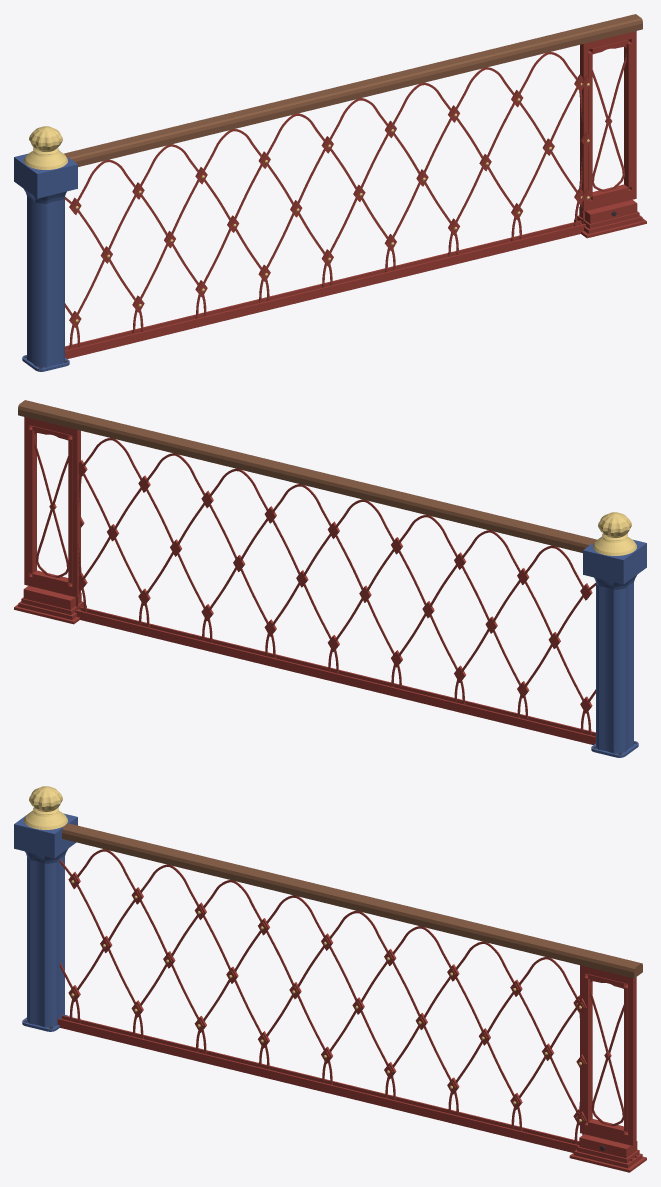
3 views of the same model, one above another, from view 1: azimuth 30°, elevation 25°; view 2: azimuth 150°, elevation 25°; view 3: azimuth 330°, elevation 25° (orthographic).
Parts seen in each view (by area): view 1: Lattice; view 2: Lattice; view 3: Lattice.
Boxes of the visible parts, x1,y1,x2,y2 form: Lattice: (14, 14, 646, 371); Lattice: (14, 400, 646, 757); Lattice: (14, 786, 646, 1172).
Bounding box in the file's own units: 3.07 × 1.12 × 0.2029.
Materials: 1 (1 with a texture image).
